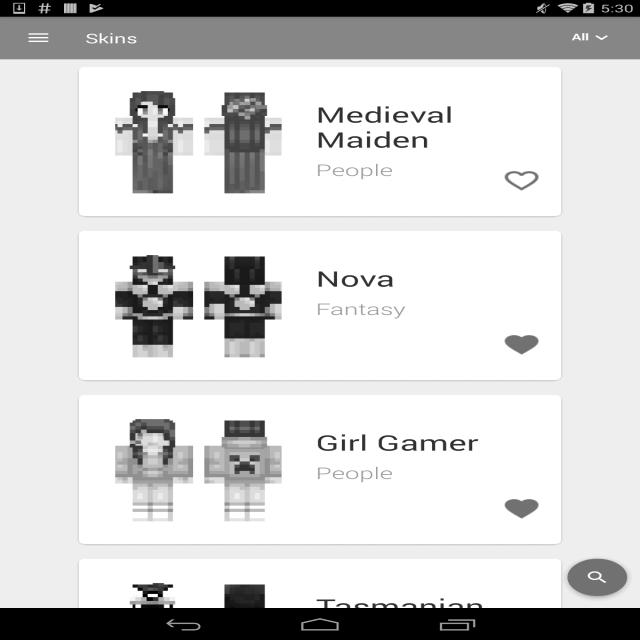ImageButton: (554, 546, 640, 608), (9, 17, 68, 59), (501, 168, 542, 193), (501, 332, 542, 357), (501, 496, 542, 521)
ImageView: (115, 90, 282, 194), (115, 254, 282, 358), (115, 418, 282, 522), (115, 581, 282, 640), (589, 30, 614, 46)
Spinner: (493, 22, 631, 54)
TextView: (316, 100, 550, 154), (316, 592, 550, 640), (316, 428, 478, 457), (316, 264, 395, 293), (316, 298, 406, 320), (316, 159, 393, 181), (316, 462, 393, 484), (85, 29, 138, 47), (572, 22, 589, 51)
